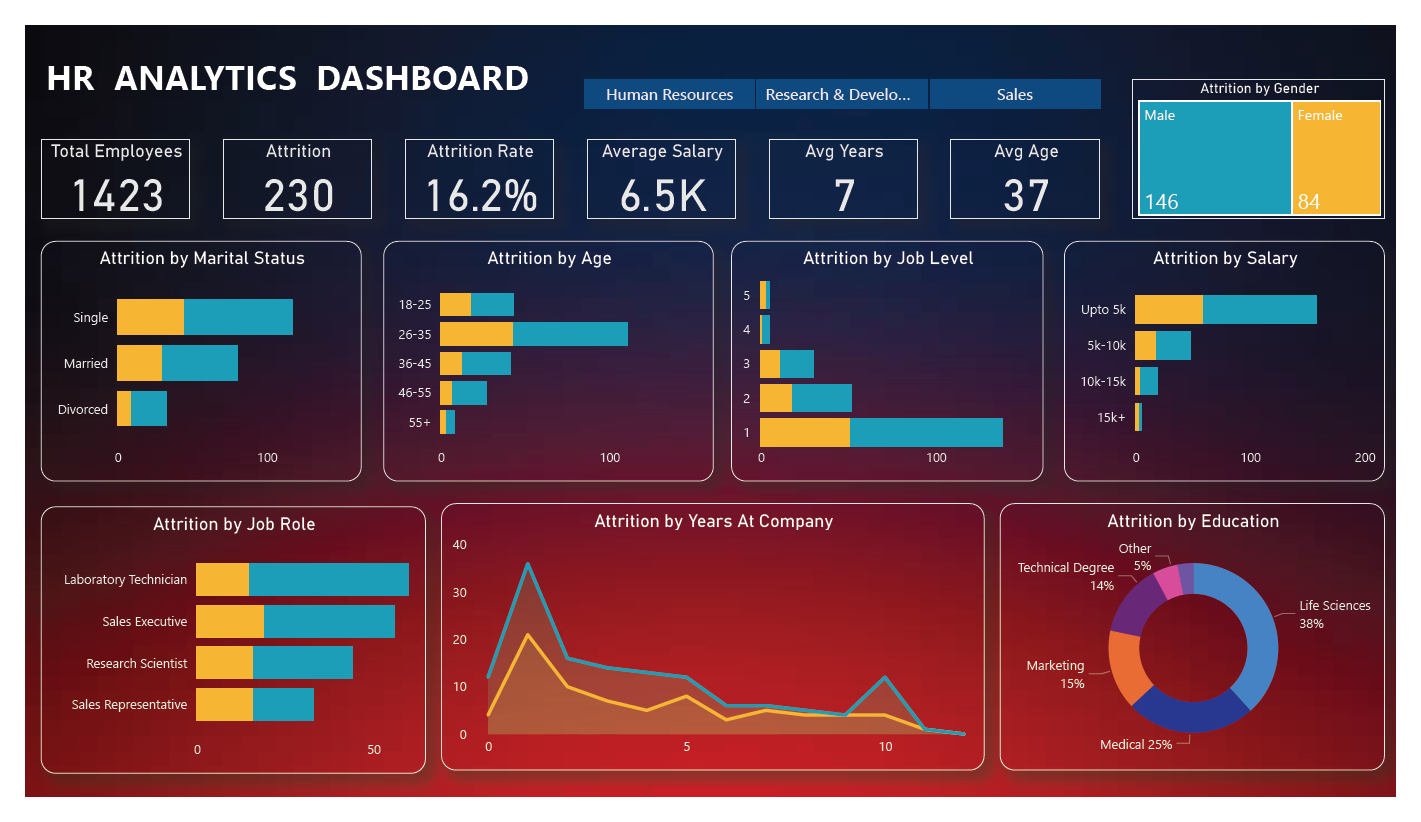

The dashboard page shown, as its layout file describes it:
{"tool":"powerbi","page":{"name":"HR Analytics Dashboard","canvas":[1280,720],"ordinal":0},"visuals":[{"type":"card","title":"Total Employees","fields":{"Values":["CountNonNull(HR_Analytics.EmployeeCount)"]},"box":[13.8,106,140,75],"z":0},{"type":"card","title":"Attrition","fields":{"Values":["Sum(HR_Analytics.AttritionCount)"]},"box":[183.8,106,140,75],"z":1000},{"type":"card","title":"Attrition Rate","fields":{"Values":["HR_Analytics.AttritionRate"]},"box":[353.8,106,140,75],"z":2000},{"type":"card","title":"Average Salary","fields":{"Values":["Avg(HR_Analytics.MonthlyIncome)"]},"box":[523.8,106,140,75],"z":3000},{"type":"card","title":"Avg Years ","fields":{"Values":["Avg(HR_Analytics.YearsAtCompany)"]},"box":[693.8,106,140,75],"z":4000},{"type":"card","title":"Avg Age","fields":{"Values":["Avg(HR_Analytics.Age)"]},"box":[863.8,106,140,75],"z":5000},{"type":"barChart","title":"Attrition by Age","fields":{"Y":["Sum(HR_Analytics.AttritionCount)"],"Category":["HR_Analytics.AgeGroup"],"Series":["HR_Analytics.Gender"]},"box":[333.8,226.2,308.8,200],"z":6000},{"type":"areaChart","title":"Attrition by Years At Company","fields":{"Y":["Sum(HR_Analytics.AttritionCount)"],"Category":["HR_Analytics.YearsAtCompany"],"Series":["HR_Analytics.Gender"]},"box":[387.5,446.2,508.8,250],"z":7000},{"type":"barChart","title":"Attrition by Marital Status","fields":{"Y":["Sum(HR_Analytics.AttritionCount)"],"Category":["HR_Analytics.MaritalStatus"],"Series":["HR_Analytics.Gender"]},"box":[13.8,226.2,300,200],"z":8000},{"type":"barChart","title":"Attrition by Job Role","fields":{"Category":["HR_Analytics.JobRole"],"Y":["Sum(HR_Analytics.AttritionCount)"],"Series":["HR_Analytics.Gender"]},"box":[13.8,448.8,360,250],"z":9000},{"type":"donutChart","title":"Attrition by Education","fields":{"Category":["HR_Analytics.EducationField"],"Y":["Sum(HR_Analytics.AttritionCount)"]},"box":[910,446.2,360,250],"z":10000},{"type":"treemap","title":"Attrition by Age","fields":{"Group":["HR_Analytics.Gender"],"Values":["Sum(HR_Analytics.AttritionCount)"]},"box":[1033.8,50,236.2,131.2],"z":11000},{"type":"barChart","title":"Attrition by Job Level","fields":{"Y":["Sum(HR_Analytics.AttritionCount)"],"Category":["HR_Analytics.JobLevel"],"Series":["HR_Analytics.Gender"]},"box":[658.8,226.2,292.5,200],"z":12000},{"type":"barChart","title":"Attrition by Salary","fields":{"Y":["Sum(HR_Analytics.AttritionCount)"],"Category":["HR_Analytics.SalarySlab"],"Series":["HR_Analytics.Gender"]},"box":[970,226.2,300,200],"z":13000},{"type":"slicer","fields":{"Values":["HR_Analytics.Department"]},"box":[496.2,25,531.2,38.8],"z":14000},{"type":"textbox","box":[13.8,20,455,65],"z":15000},{"type":"actionButton","box":[0,0,100,40],"z":16000}]}

Visuals, with their boxes in screenshot pixels (x1, y1, x2, y2), scaled from the page's 1280x720 canvas onto the 1421x822 screenshot:
"Total Employees" card: region(15, 121, 171, 207)
"Attrition" card: region(204, 121, 359, 207)
"Attrition Rate" card: region(393, 121, 548, 207)
"Average Salary" card: region(581, 121, 737, 207)
"Avg Years " card: region(770, 121, 926, 207)
"Avg Age" card: region(959, 121, 1114, 207)
"Attrition by Age" barChart: region(371, 258, 713, 487)
"Attrition by Years At Company" areaChart: region(430, 509, 995, 795)
"Attrition by Marital Status" barChart: region(15, 258, 348, 487)
"Attrition by Job Role" barChart: region(15, 512, 415, 798)
"Attrition by Education" donutChart: region(1010, 509, 1410, 795)
"Attrition by Age" treemap: region(1148, 57, 1410, 207)
"Attrition by Job Level" barChart: region(731, 258, 1056, 487)
"Attrition by Salary" barChart: region(1077, 258, 1410, 487)
slicer - HR_Analytics.Department: region(551, 29, 1141, 73)
textbox: region(15, 23, 520, 97)
actionButton: region(0, 0, 111, 46)
